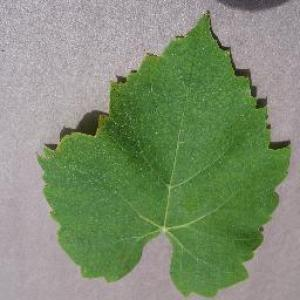Folha: (35, 11, 291, 298)
